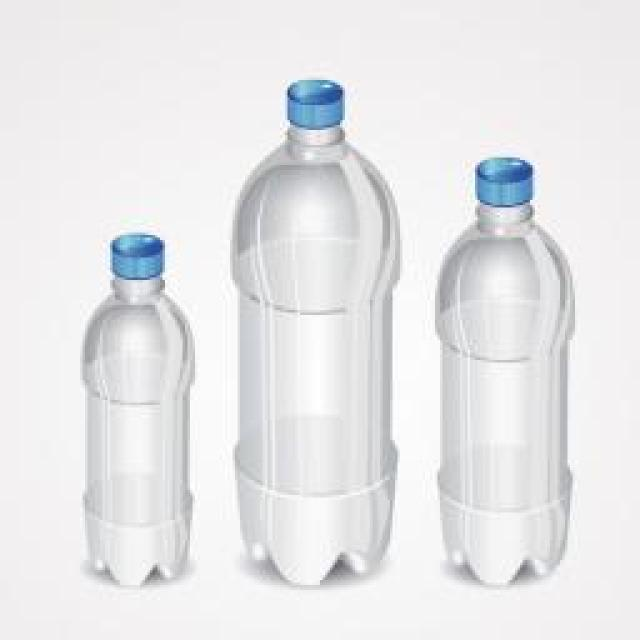bottle: (223, 82, 407, 592), (433, 159, 572, 589), (77, 232, 197, 593)
